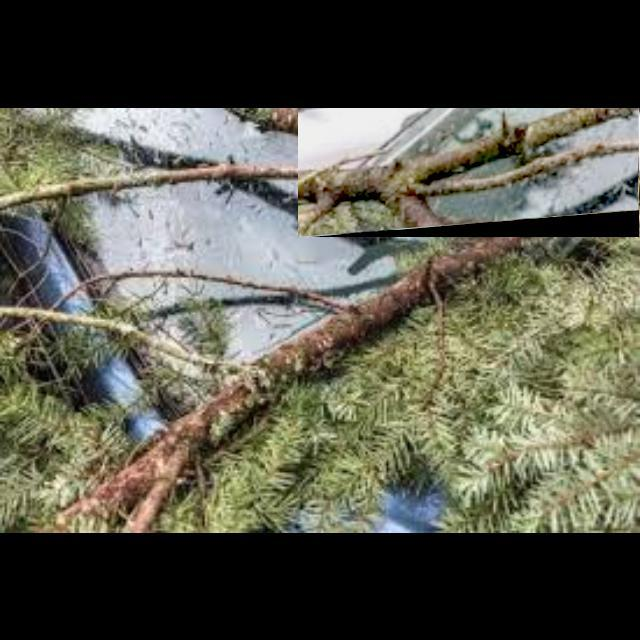fallen_tree: (298, 108, 640, 238)
